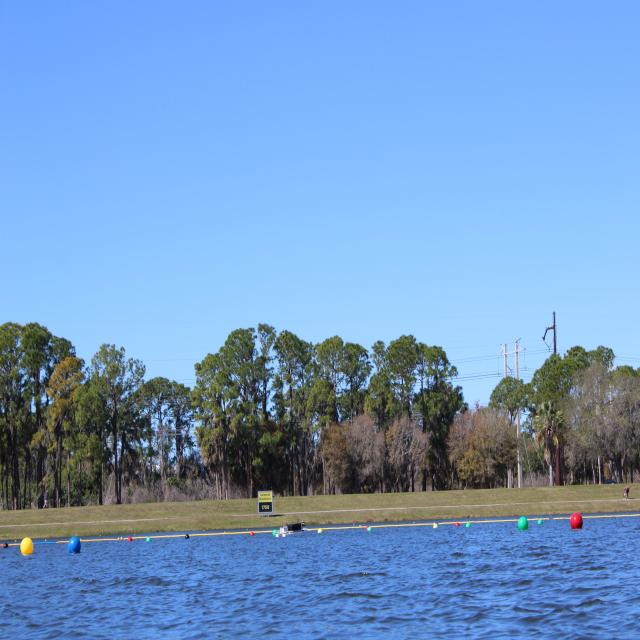blue-buoy: (69, 537, 82, 557)
green-buoy: (517, 515, 527, 530), (146, 536, 152, 544), (537, 520, 543, 526), (466, 523, 471, 530)
red-buoy: (570, 513, 582, 532)
yellow-buoy: (20, 538, 32, 559), (432, 523, 438, 531)
